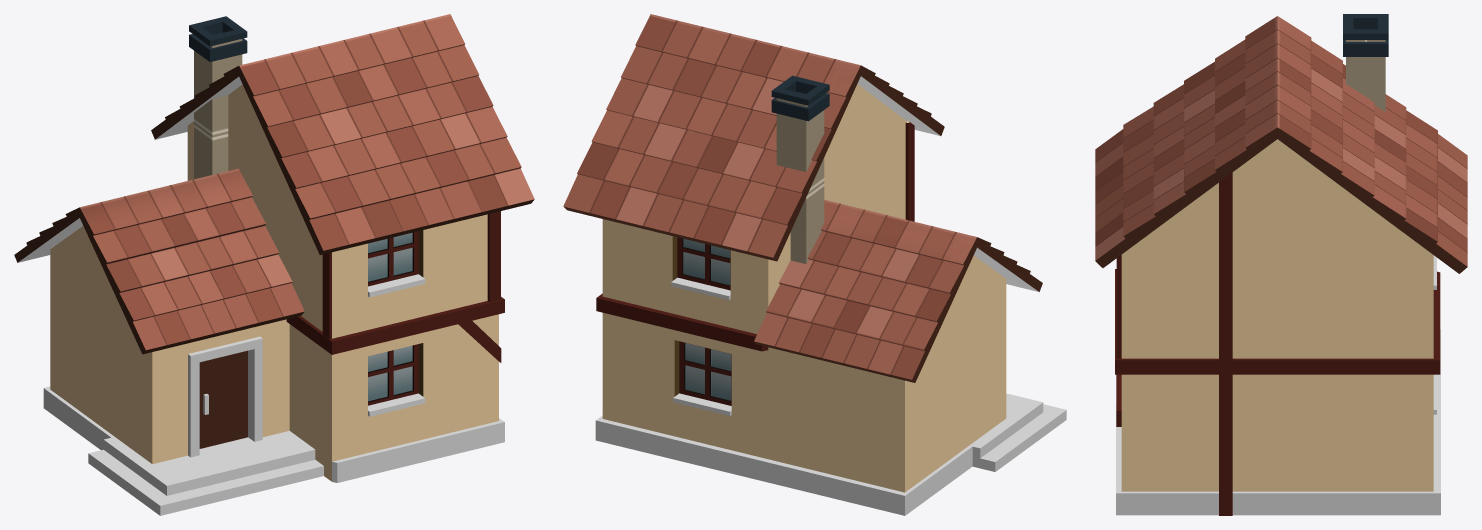
File: house_1.FBX
3 renders of one model, left to right at view 1: azimuth 30°, elevation 25°; view 2: azimuth 150°, elevation 25°; view 3: azimuth 270°, elevation 25°, orthographic. The views are drawn at different scales.
Parts seen in each view (by area): view 1: Box131, roof, roof1, stairs, roofsides, wood, door, Box133, doorFrame, window, SmokeHoleTop, windowFrames (+4 smaller); view 2: Box131, roof, roof1, stairs, roofsides, Box133, window, wood, SmokeHoleTop, windowFrames, house_1, underRoof (+2 smaller); view 3: Box131, roof, wood, stairs, roofsides, SmokeHoleTop, Box133.
Boxes of the visible parts, left/top/right/bottom form: Box131: left=50, top=84, right=498, bottom=481; roof: left=239, top=14, right=534, bottom=250; roof1: left=80, top=168, right=304, bottom=350; stairs: left=43, top=386, right=504, bottom=515; roofsides: left=14, top=66, right=534, bottom=354; wood: left=286, top=211, right=504, bottom=362; door: left=199, top=350, right=247, bottom=448; Box133: left=194, top=39, right=242, bottom=179; doorFrame: left=188, top=336, right=262, bottom=457; window: left=368, top=232, right=412, bottom=401; SmokeHoleTop: left=189, top=16, right=247, bottom=61; windowFrames: left=368, top=231, right=418, bottom=405; Box131: left=602, top=84, right=1006, bottom=492; roof: left=563, top=14, right=860, bottom=257; roof1: left=754, top=200, right=976, bottom=379; stairs: left=595, top=393, right=1066, bottom=515; roofsides: left=564, top=65, right=1042, bottom=382; Box133: left=776, top=98, right=824, bottom=263; window: left=683, top=238, right=731, bottom=400; wood: left=596, top=293, right=768, bottom=351; SmokeHoleTop: left=771, top=75, right=829, bottom=121; windowFrames: left=677, top=237, right=731, bottom=405; house_1: left=682, top=122, right=914, bottom=401; underRoof: left=857, top=76, right=1038, bottom=291; Box131: left=1121, top=139, right=1433, bottom=491; roof: left=1095, top=16, right=1467, bottom=266; wood: left=1115, top=172, right=1440, bottom=515; stairs: left=1116, top=329, right=1440, bottom=515; roofsides: left=1095, top=127, right=1467, bottom=273; SmokeHoleTop: left=1343, top=14, right=1388, bottom=56; Box133: left=1346, top=40, right=1385, bottom=111.
Size of the model in its own units: 27.16 by 27.19 by 22.89.
